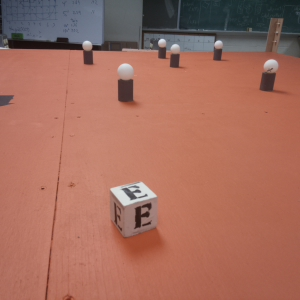blockE: (111, 182, 159, 239)
corner: (267, 18, 286, 55)
obstacle: (117, 65, 135, 103), (260, 61, 278, 92), (82, 41, 96, 67), (169, 44, 182, 71), (212, 41, 224, 62), (157, 39, 168, 60)
start: (1, 92, 15, 111)
